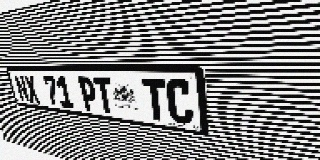1: (54, 76, 74, 109)
7: (42, 75, 61, 107)
C: (165, 79, 194, 125)
N: (14, 75, 31, 103)
P: (77, 76, 99, 112)
T: (142, 78, 169, 122), (93, 77, 116, 115)
X: (23, 75, 41, 104)
